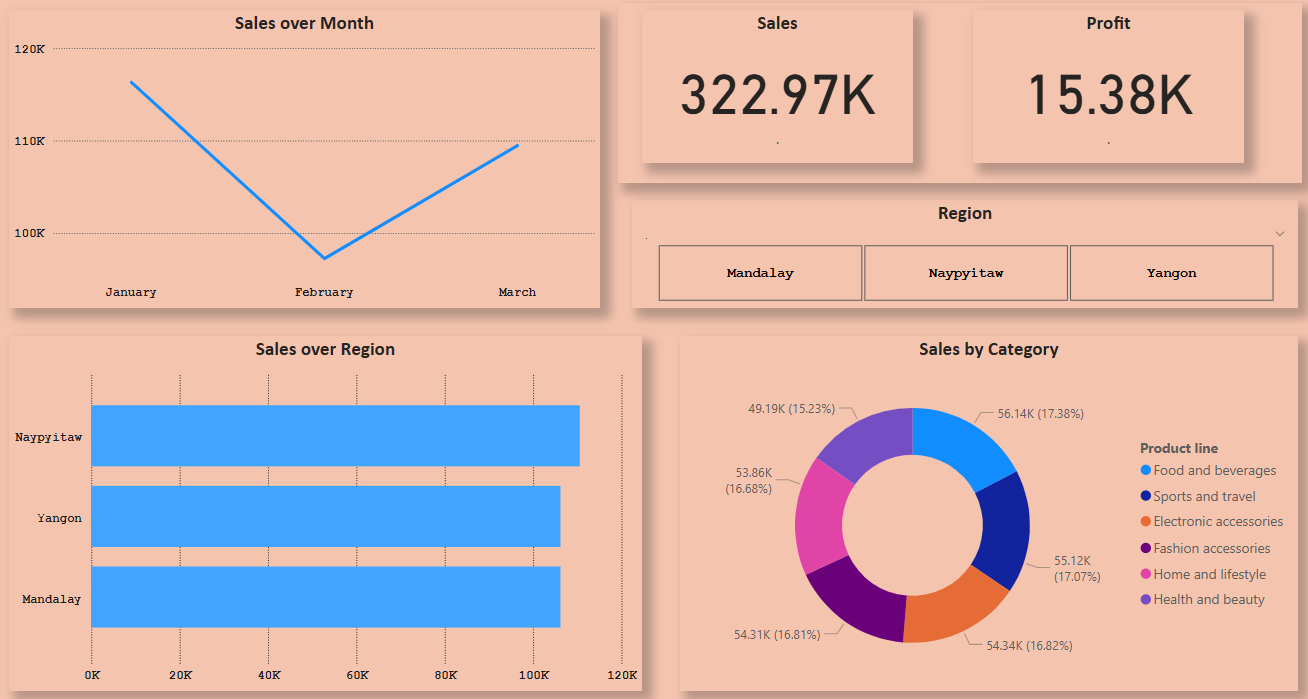

The page's visual inventory and layout, read from the dashboard file:
{"tool":"powerbi","page":{"name":"Page 1","canvas":[1280,720],"ordinal":0},"visuals":[{"type":"shape","box":[603,36,665.3,175.1],"z":0},{"type":"card","title":"Sales","fields":{"Values":["Sum(supermarket_data.Sales)"]},"box":[626.4,42.8,263.6,148.8],"z":3},{"type":"card","title":"Profit","fields":{"Values":["Sum(supermarket_data.gross income)"]},"box":[948.3,42.8,263.6,148.8],"z":4},{"type":"slicer","title":"Region","fields":{"Values":["supermarket_data.City"]},"box":[616.7,227.6,647.8,105],"z":5},{"type":"lineChart","title":"Sales over Month","fields":{"Y":["Sum(supermarket_data.Sales)"],"Category":["supermarket_data.Date.Variation.Date Hierarchy.Month"]},"box":[10.7,42.8,574.8,289.8],"z":6},{"type":"clusteredBarChart","title":"Sales over Region","fields":{"Y":["Sum(supermarket_data.Sales)"],"Category":["supermarket_data.City"]},"box":[10.7,359.9,615.7,345.3],"z":7},{"type":"donutChart","title":"Sales by Category","fields":{"Y":["Sum(supermarket_data.Sales)"],"Category":["supermarket_data.Product line"]},"box":[663.3,359.9,601.1,345.3],"z":8}]}

Visuals, with their boxes in screenshot pixels (x1, y1, x2, y2):
shape: Rect(616, 0, 1300, 180)
"Sales" card: Rect(641, 7, 912, 160)
"Profit" card: Rect(971, 7, 1242, 160)
"Region" slicer: Rect(631, 197, 1297, 304)
"Sales over Month" lineChart: Rect(8, 7, 599, 304)
"Sales over Region" clusteredBarChart: Rect(8, 333, 641, 687)
"Sales by Category" donutChart: Rect(678, 333, 1296, 687)
